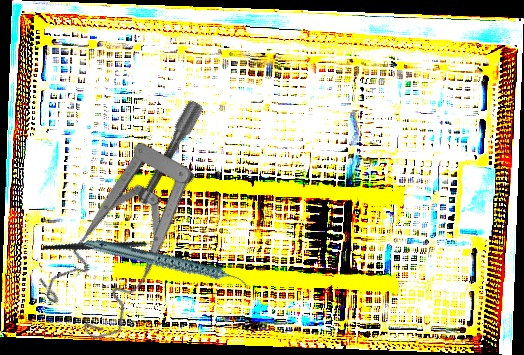Chopper: (41, 199, 167, 287)
Handpiece: (83, 206, 250, 321)
Speculum: (5, 96, 280, 354)
